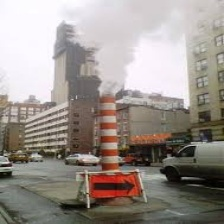smoke: (89, 1, 196, 99)
